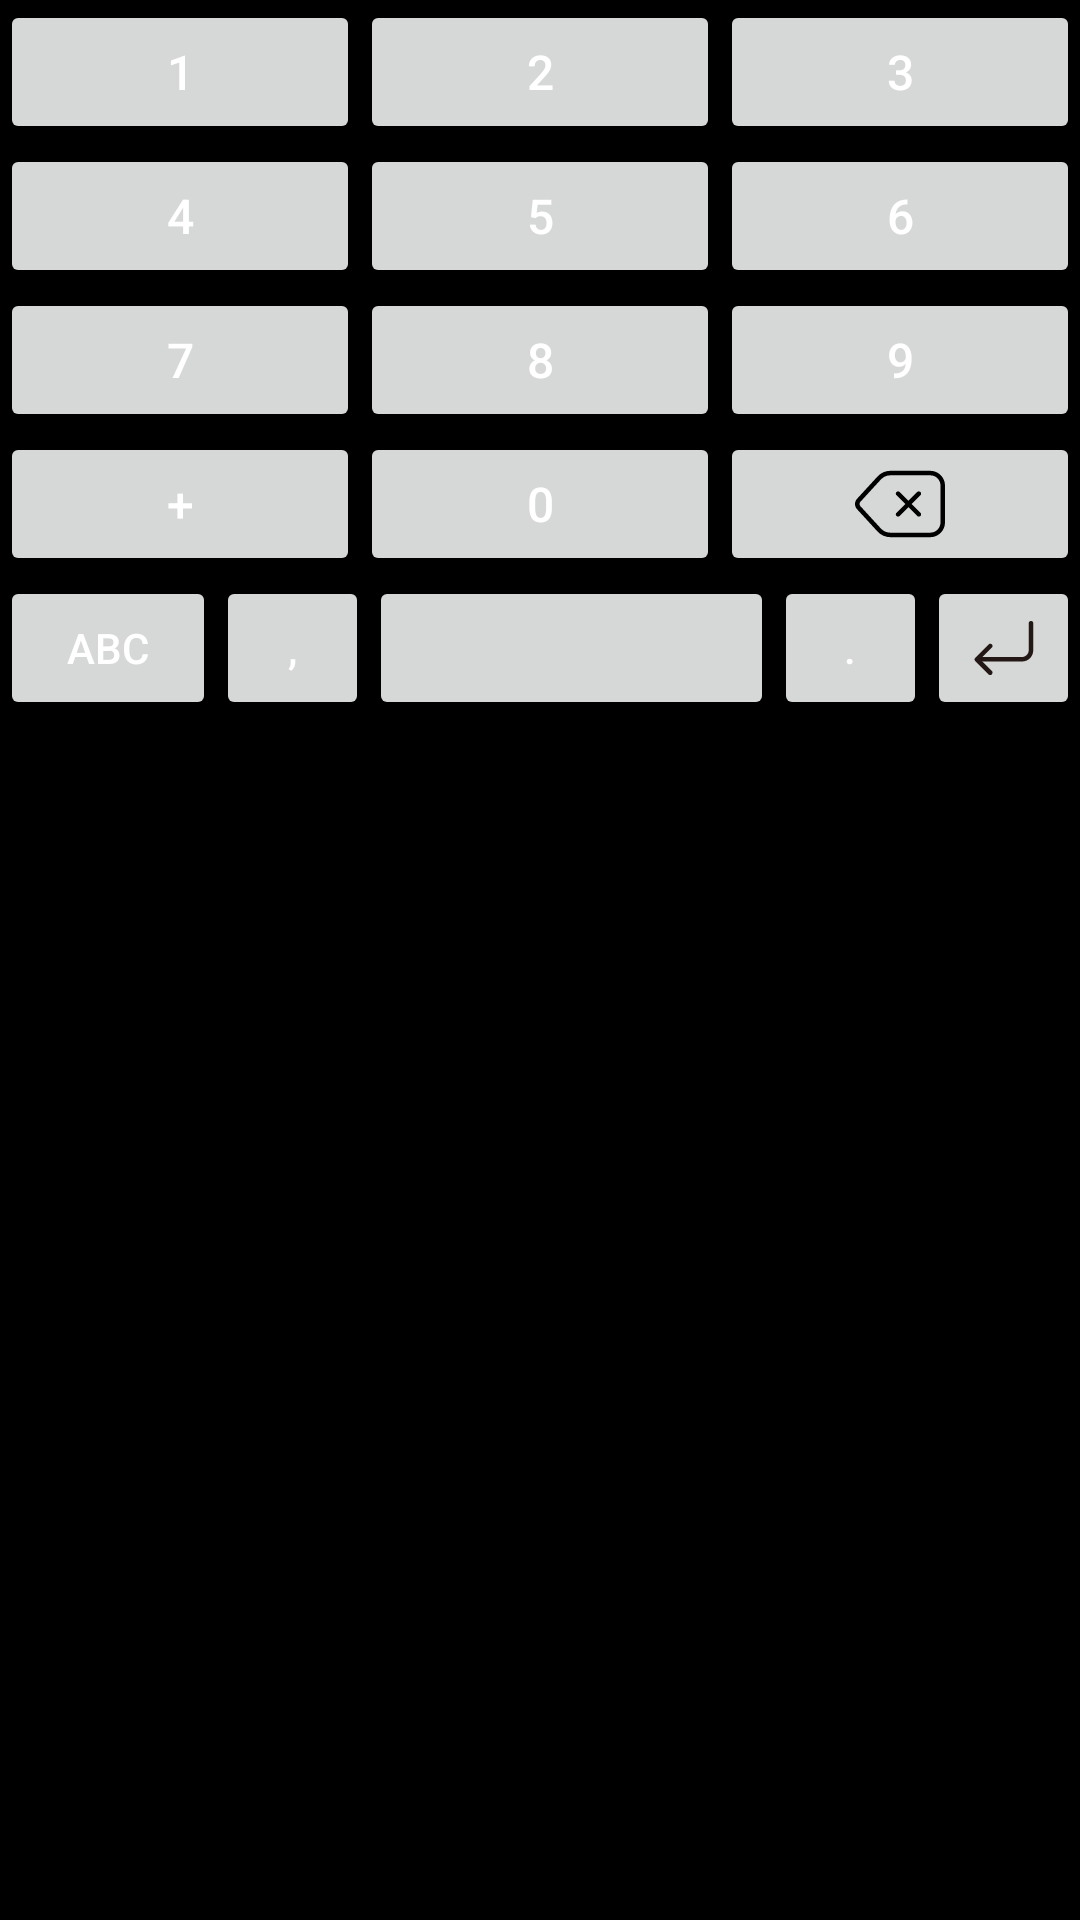

Named icons in this screenshot (1080×1920) and their bounding boxes, (x1, y1, x2, y2):
DELETE: (732, 450, 1068, 558)
DONE: (939, 594, 1068, 702)
